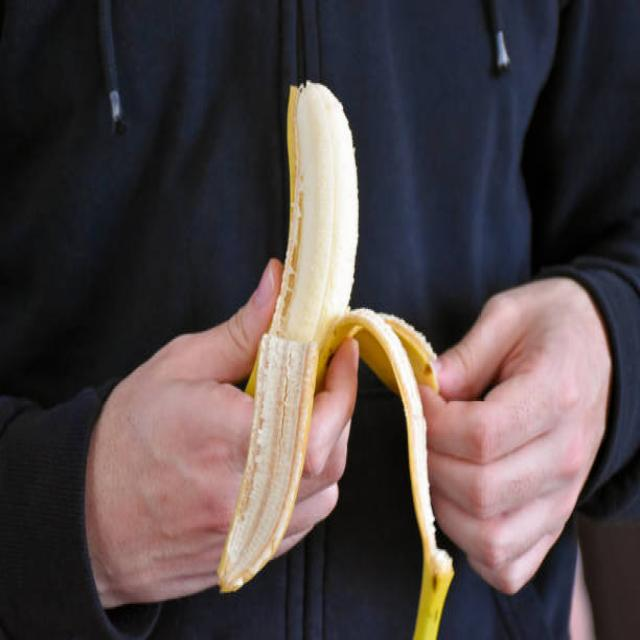banana_peel: (209, 75, 459, 624)
